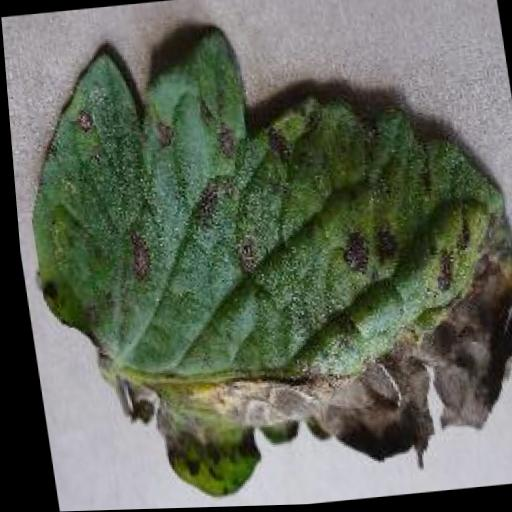Early Blight: (1, 5, 512, 512)
